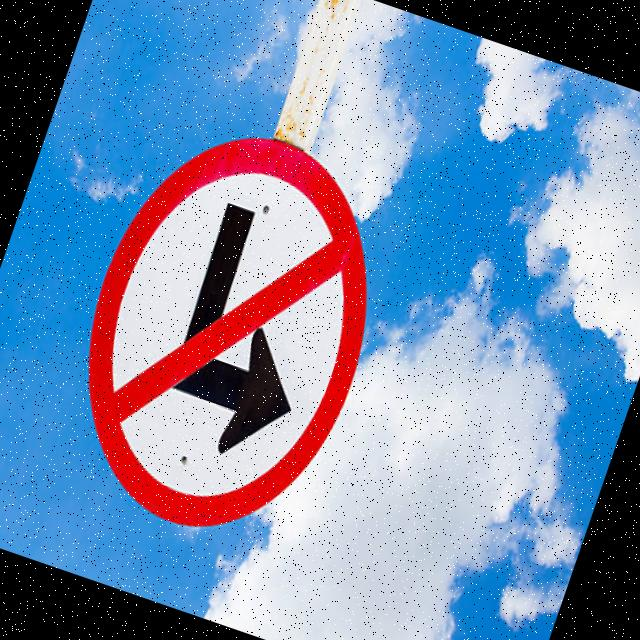do_not_turn_right: (33, 101, 424, 572)
